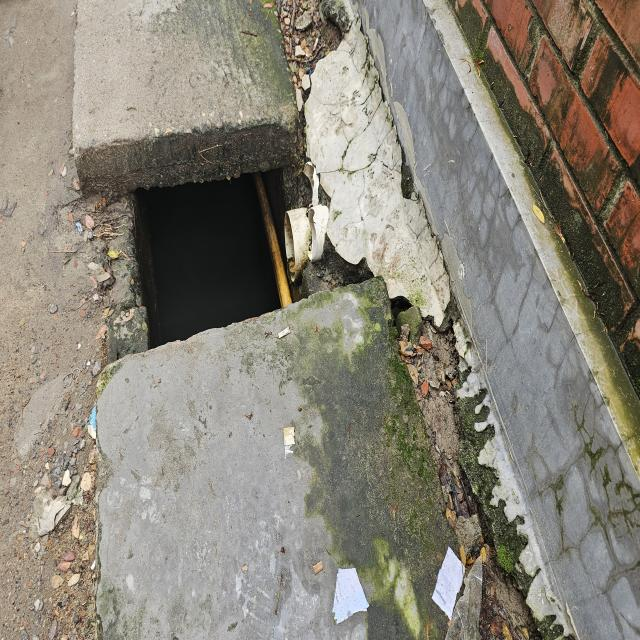drain_inlet: (75, 115, 382, 363)
